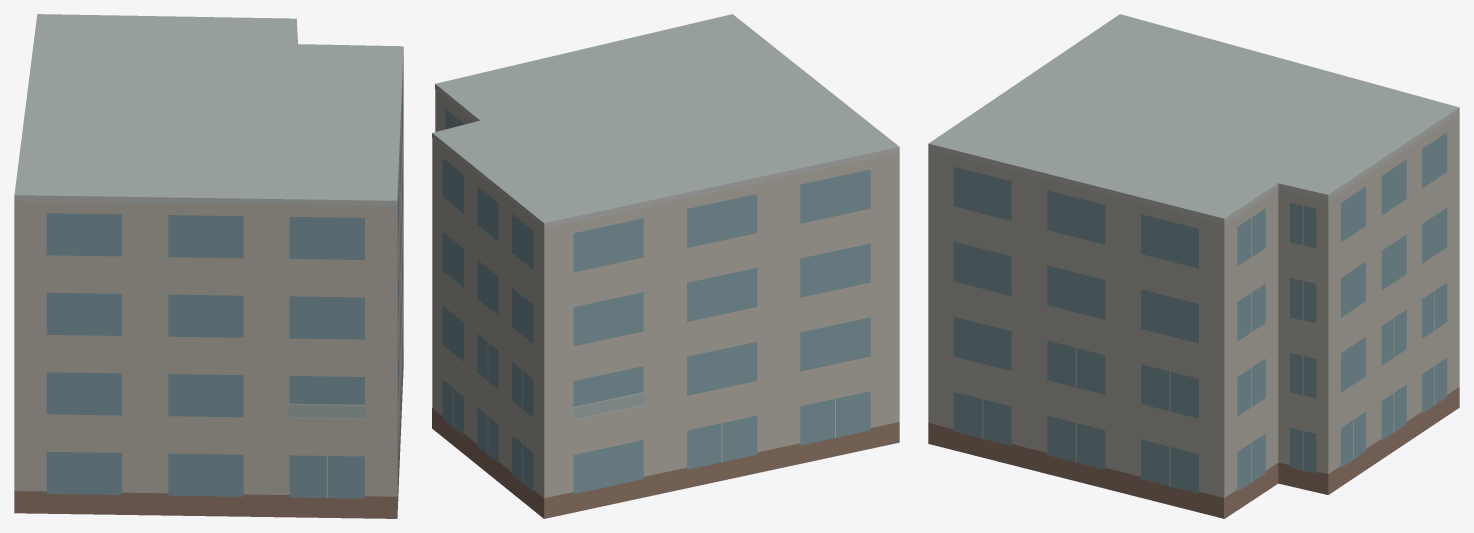
The model's file is survey-upis-32910697.glb.
The picture shows the model from 3 angles, left to right: view 1: azimuth 30°, elevation 25°; view 2: azimuth 150°, elevation 25°; view 3: azimuth 270°, elevation 25°; orthographic projection. The views are drawn at different scales.
Parts seen in each view (by area): view 1: survey-upis-32910697.tmp; view 2: survey-upis-32910697.tmp; view 3: survey-upis-32910697.tmp.
Part boxes in pixels (bbox=[...]): survey-upis-32910697.tmp: bbox=[14, 14, 403, 518]; survey-upis-32910697.tmp: bbox=[432, 14, 899, 518]; survey-upis-32910697.tmp: bbox=[928, 14, 1459, 518].
Bounding box in the file's own units: 19.31 × 13.2 × 21.18.
